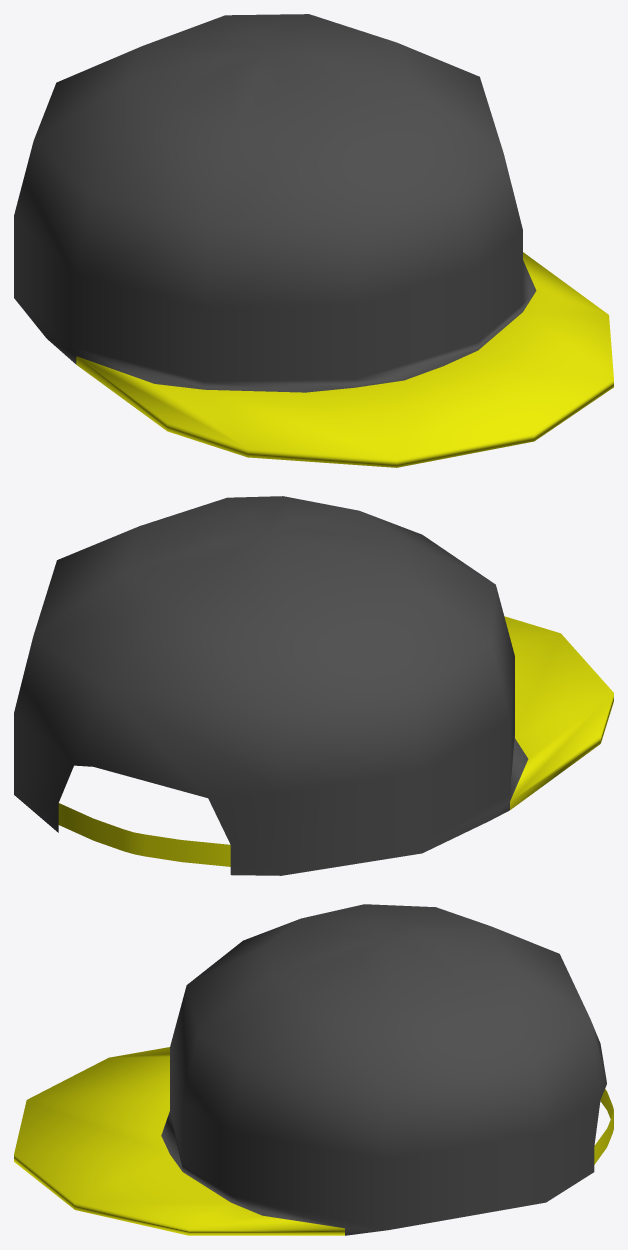
File: Hat.fbx
3 renders of one model, top to bottom at view 1: azimuth 30°, elevation 25°; view 2: azimuth 150°, elevation 25°; view 3: azimuth 270°, elevation 25°, orthographic. The views are drawn at different scales.
Visible parts, largest first — view 1: polySurface1149; view 2: polySurface1149; view 3: polySurface1149.
Boxes of the visible parts, <box> form: polySurface1149: <box>14,14,613,467</box>; polySurface1149: <box>14,496,613,875</box>; polySurface1149: <box>14,904,613,1235</box>.
Size of the model in its own units: 83.34 by 42.63 by 112.
